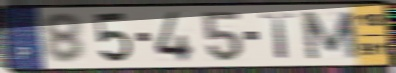4: (154, 10, 196, 64)
5: (199, 9, 245, 63), (93, 11, 133, 64)
8: (41, 11, 88, 65)
M: (298, 10, 362, 61)
T: (258, 11, 299, 60)
